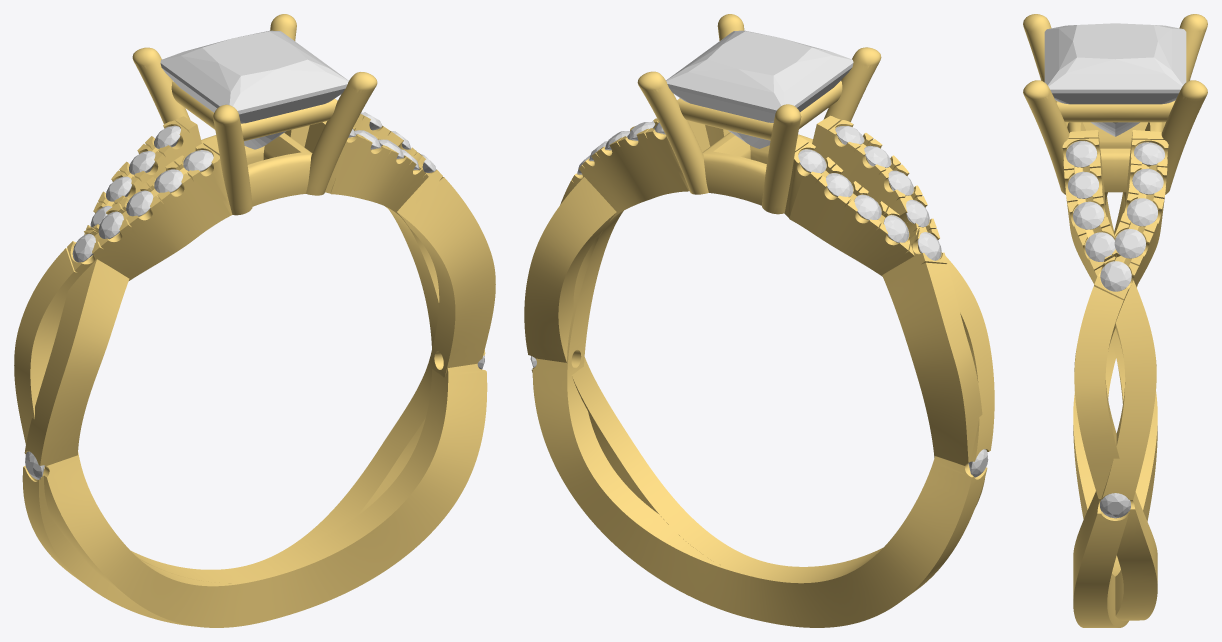
File: diamond-princess-yellowgold-4prong-twist-sidestones.glb
3 views of the same model, side by side, from view 1: azimuth 30°, elevation 25°; view 2: azimuth 150°, elevation 25°; view 3: azimuth 270°, elevation 25° (orthographic).
Visible parts, largest first — view 1: metal, stone; view 2: metal, stone; view 3: metal, stone, side.015, side.016, side.012, side.017, side.011, side.013, side.014, side.018, side.010, side.019.
Boxes of the visible parts, x1=… form: metal: x1=14, y1=14, x2=495, y2=627; stone: x1=160, y1=30, x2=348, y2=149; metal: x1=524, y1=14, x2=994, y2=627; stone: x1=666, y1=30, x2=853, y2=148; metal: x1=1023, y1=14, x2=1207, y2=627; stone: x1=1044, y1=23, x2=1186, y2=136; side.015: x1=1100, y1=261, x2=1131, y2=291; side.016: x1=1114, y1=229, x2=1145, y2=258; side.012: x1=1073, y1=201, x2=1104, y2=229; side.017: x1=1127, y1=198, x2=1157, y2=226; side.011: x1=1085, y1=232, x2=1115, y2=261; side.013: x1=1068, y1=171, x2=1098, y2=198; side.014: x1=1066, y1=141, x2=1097, y2=167; side.018: x1=1132, y1=168, x2=1163, y2=194; side.010: x1=1100, y1=493, x2=1130, y2=518; side.019: x1=1134, y1=142, x2=1164, y2=165.
Size of the model in its own units: 19.97 by 23.65 by 7.08.
